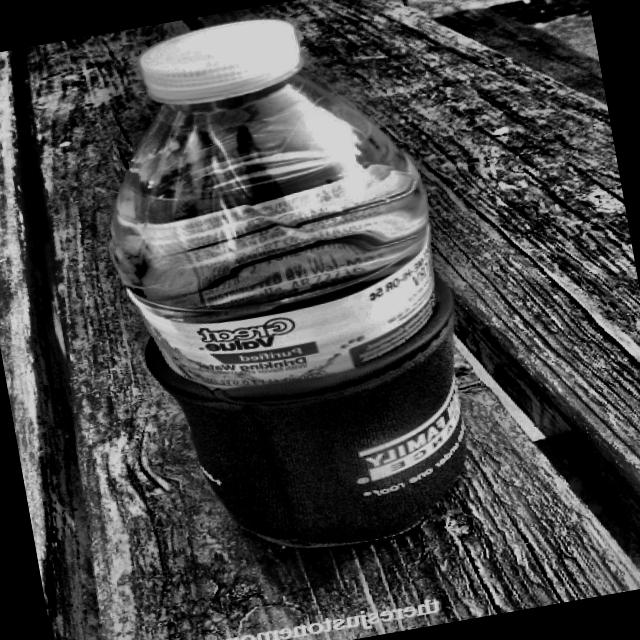waterbottle: (62, 0, 499, 589)
